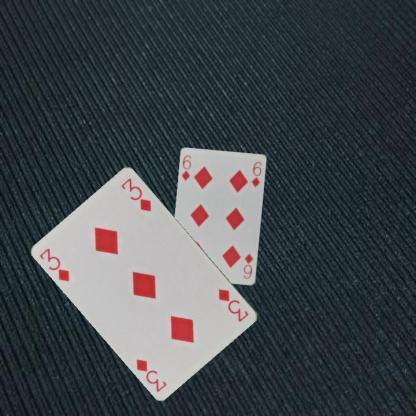3d: (216, 286, 250, 324), (38, 246, 72, 284)
6d: (240, 251, 255, 280), (179, 152, 193, 182)
